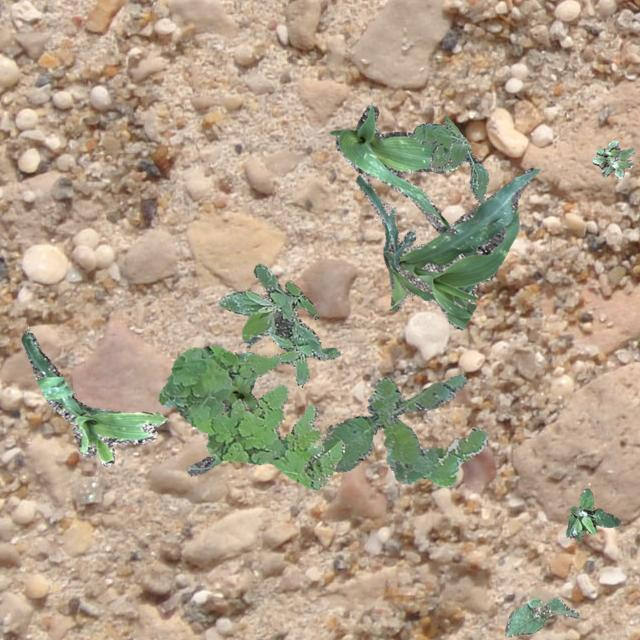crop: (354, 166, 540, 328), (21, 330, 166, 466), (328, 102, 458, 232), (186, 350, 256, 474), (503, 596, 578, 636)
weed: (158, 344, 344, 488), (318, 374, 486, 486), (218, 262, 338, 384), (412, 114, 488, 200), (564, 488, 620, 540), (592, 140, 634, 178)
